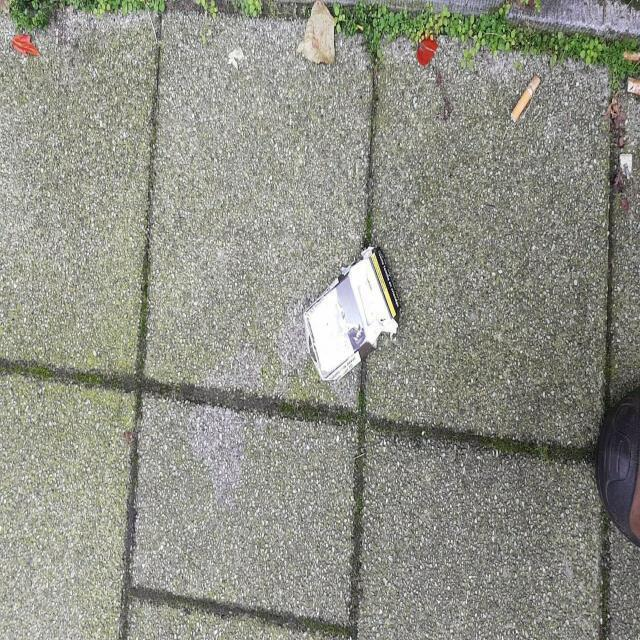Paper: (302, 245, 401, 383)
